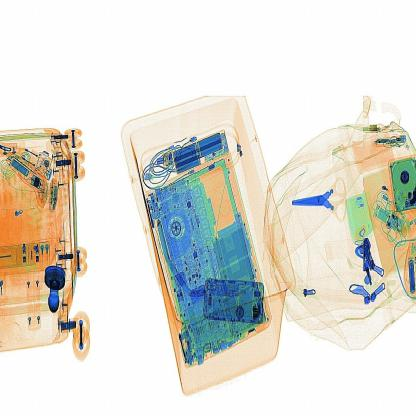gun: (274, 168, 352, 234)
